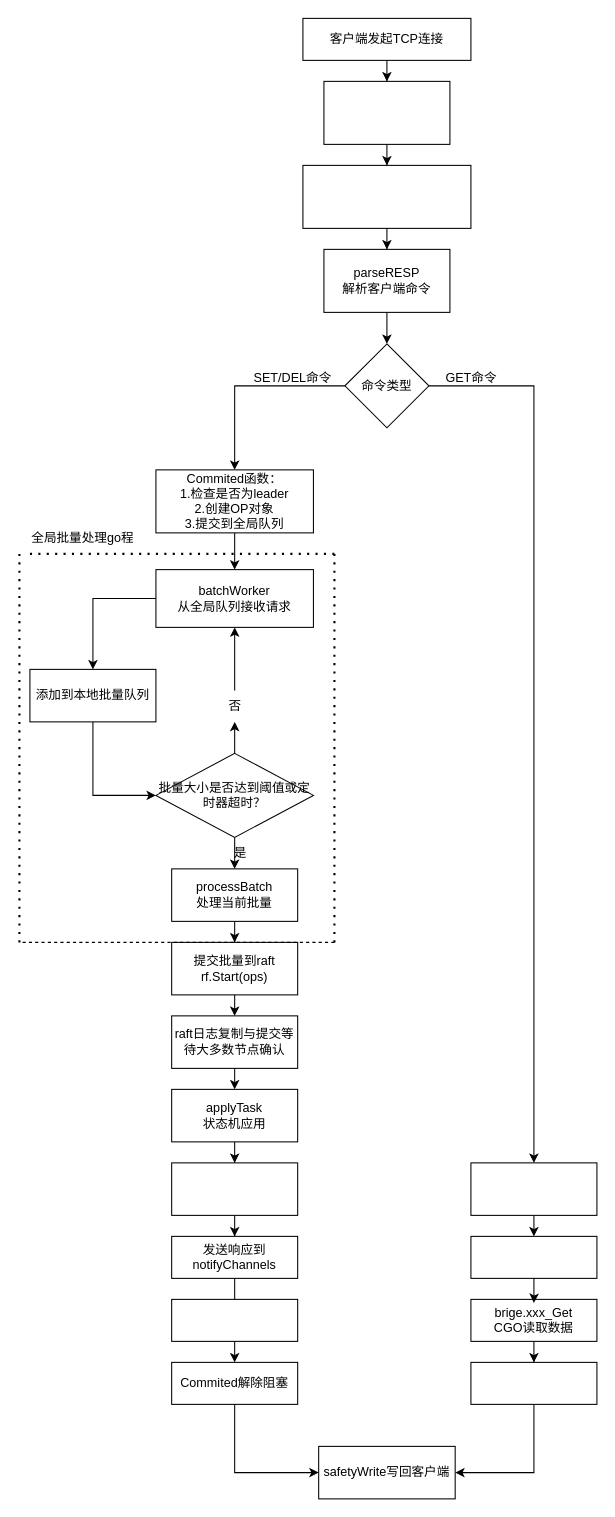
The diagram is 615 pixels wide and 1517 high, and some of its shapes have lost their labels. The shapes that lost their labels are listed below. From the top down, each one's centre as x and y in pixels, then its label:
At [386,112]: "handleConnection 为连接启动go程".
At [386,196]: "轻量级初始化 不创建批量缓冲 不启动批量go程".
At [234,1188]: "单次批量CGO调用 brige.BatchApply".
At [533,1188]: "Commited".
At [533,1256]: "检查leaseRead 直接读取本地状态机".
At [234,1319]: "processBatch分发响应写入对应respch".
At [533,1382]: "立即返回客户端".
